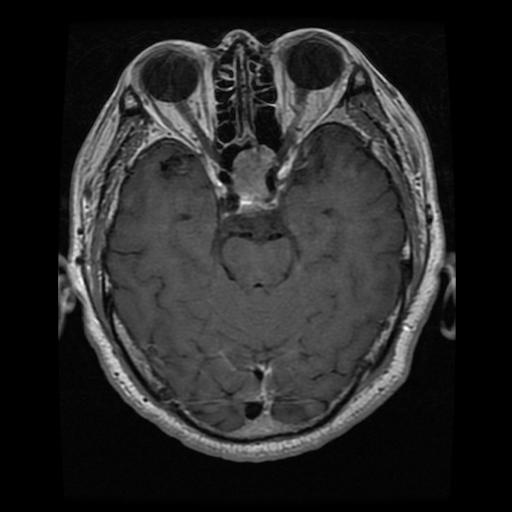Pituirity_tumour: (231, 146, 272, 210)
